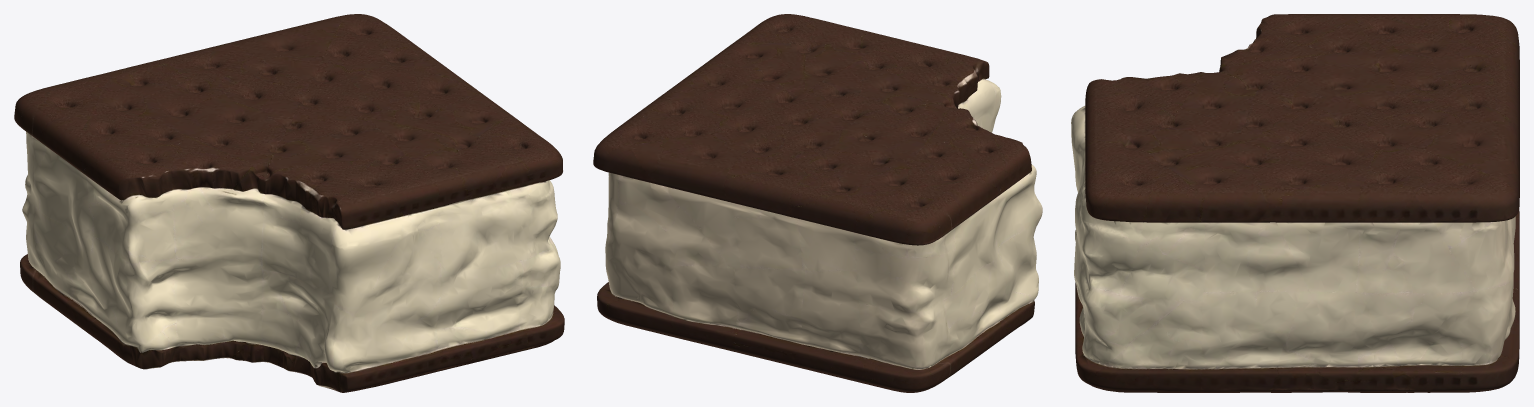
The model's file is fatboy-sandwich.glb.
3 views of the same model, side by side, from view 1: azimuth 30°, elevation 25°; view 2: azimuth 150°, elevation 25°; view 3: azimuth 270°, elevation 25° (orthographic). The views are drawn at different scales.
Parts seen in each view (by area): view 1: mesh_node; view 2: mesh_node; view 3: mesh_node.
Part boxes in pixels (x1,y1,x2,y2): mesh_node: [14, 14, 564, 392]; mesh_node: [593, 14, 1042, 392]; mesh_node: [1071, 14, 1519, 392].
Size of the model in its own units: 2 by 1 by 2.
1 material, 1 textured.
